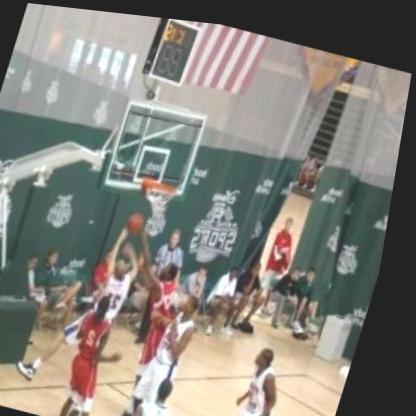basketball: (129, 205, 155, 234)
